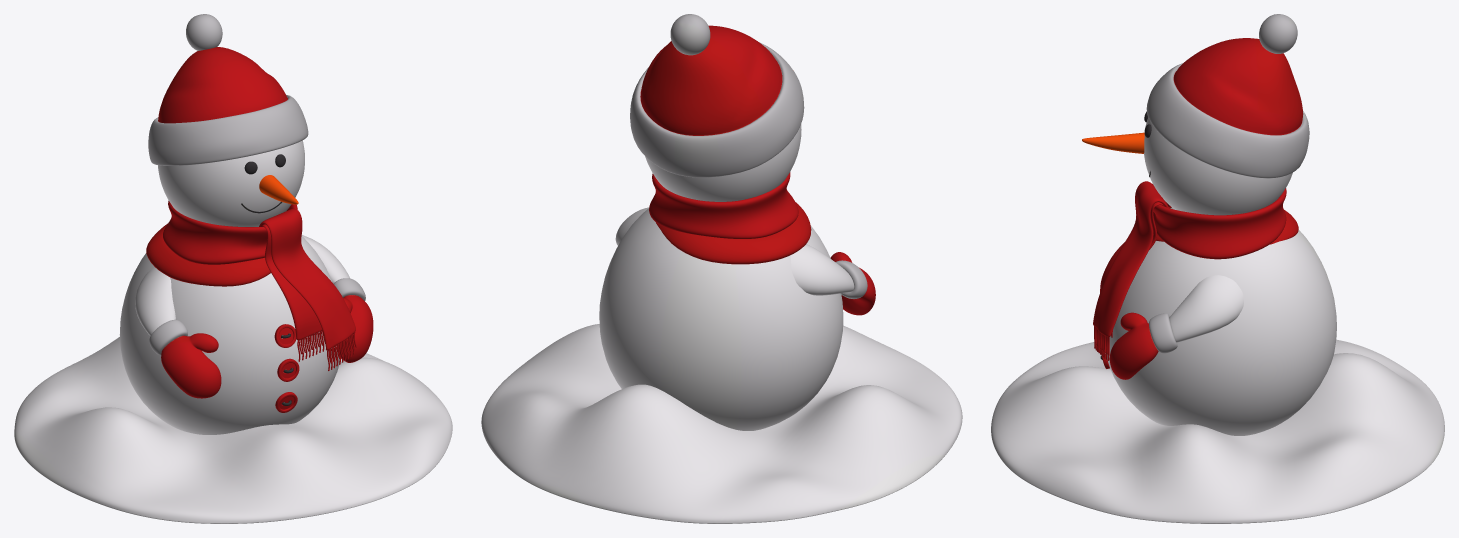
The picture shows the model from 3 angles, left to right: view 1: azimuth 30°, elevation 25°; view 2: azimuth 150°, elevation 25°; view 3: azimuth 270°, elevation 25°; orthographic projection. The views are drawn at different scales.
Visible parts, largest first — view 1: mesh_0_1, mesh_0_3, mesh_0_7, mesh_0_2, mesh_0_4, mesh_0_6; view 2: mesh_0_1, mesh_0_7, mesh_0_3, mesh_0_2, mesh_0_4; view 3: mesh_0_1, mesh_0_7, mesh_0_3, mesh_0_2, mesh_0_4.
Boxes of the visible parts, box(x1,y1,x2,y2) form: mesh_0_1: box(14, 337, 452, 523); mesh_0_3: box(135, 14, 350, 335); mesh_0_7: box(119, 236, 339, 434); mesh_0_2: box(146, 200, 356, 370); mesh_0_4: box(149, 278, 373, 398); mesh_0_6: box(274, 324, 299, 412); mesh_0_1: box(481, 324, 962, 523); mesh_0_7: box(599, 208, 843, 430); mesh_0_3: box(615, 14, 854, 295); mesh_0_2: box(649, 172, 811, 264); mesh_0_4: box(830, 252, 875, 315); mesh_0_1: box(991, 339, 1444, 523); mesh_0_7: box(1105, 207, 1336, 435); mesh_0_3: box(1082, 14, 1309, 342); mesh_0_2: box(1093, 181, 1298, 360); mesh_0_4: box(1109, 312, 1177, 379).
Size of the model in its own units: 57.67 by 57.82 by 57.64.
Materials: 1 (1 with a texture image).
